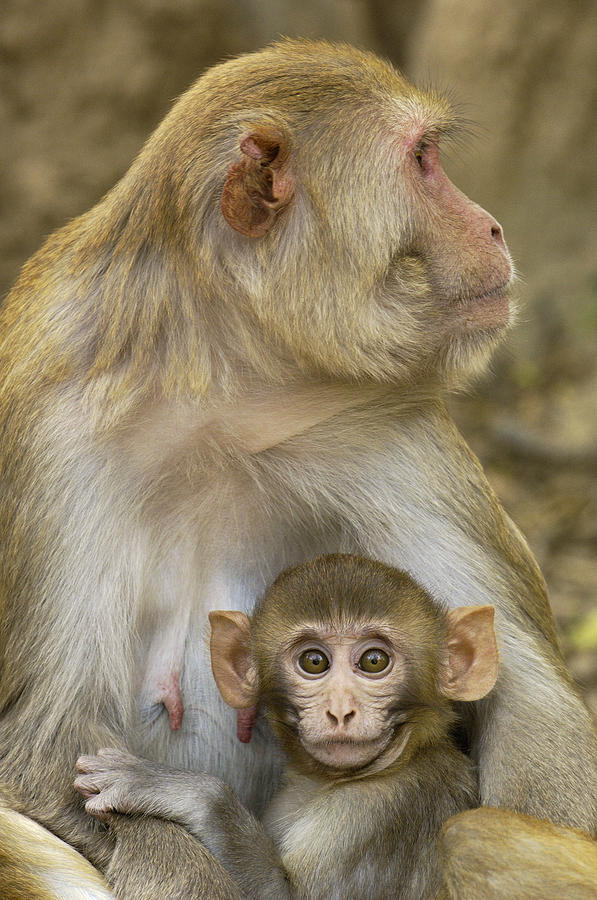monkey: (1, 39, 595, 900), (73, 548, 510, 900)
